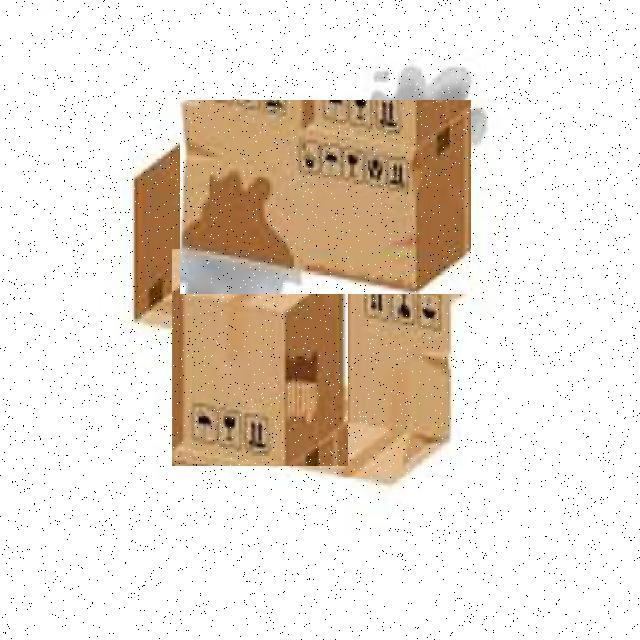defect: (180, 100, 471, 294), (172, 249, 348, 466), (294, 276, 458, 487)
